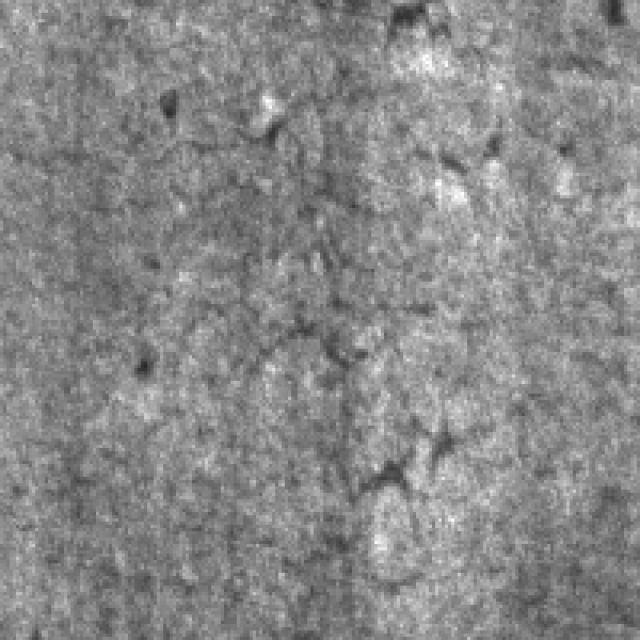crazing: (38, 74, 509, 224), (237, 288, 483, 499)
